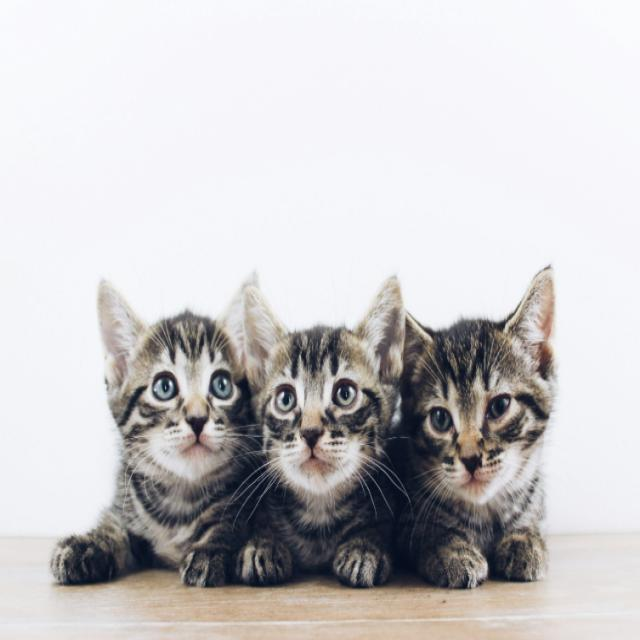cats: (248, 268, 412, 586), (90, 278, 250, 586), (414, 265, 562, 582)
